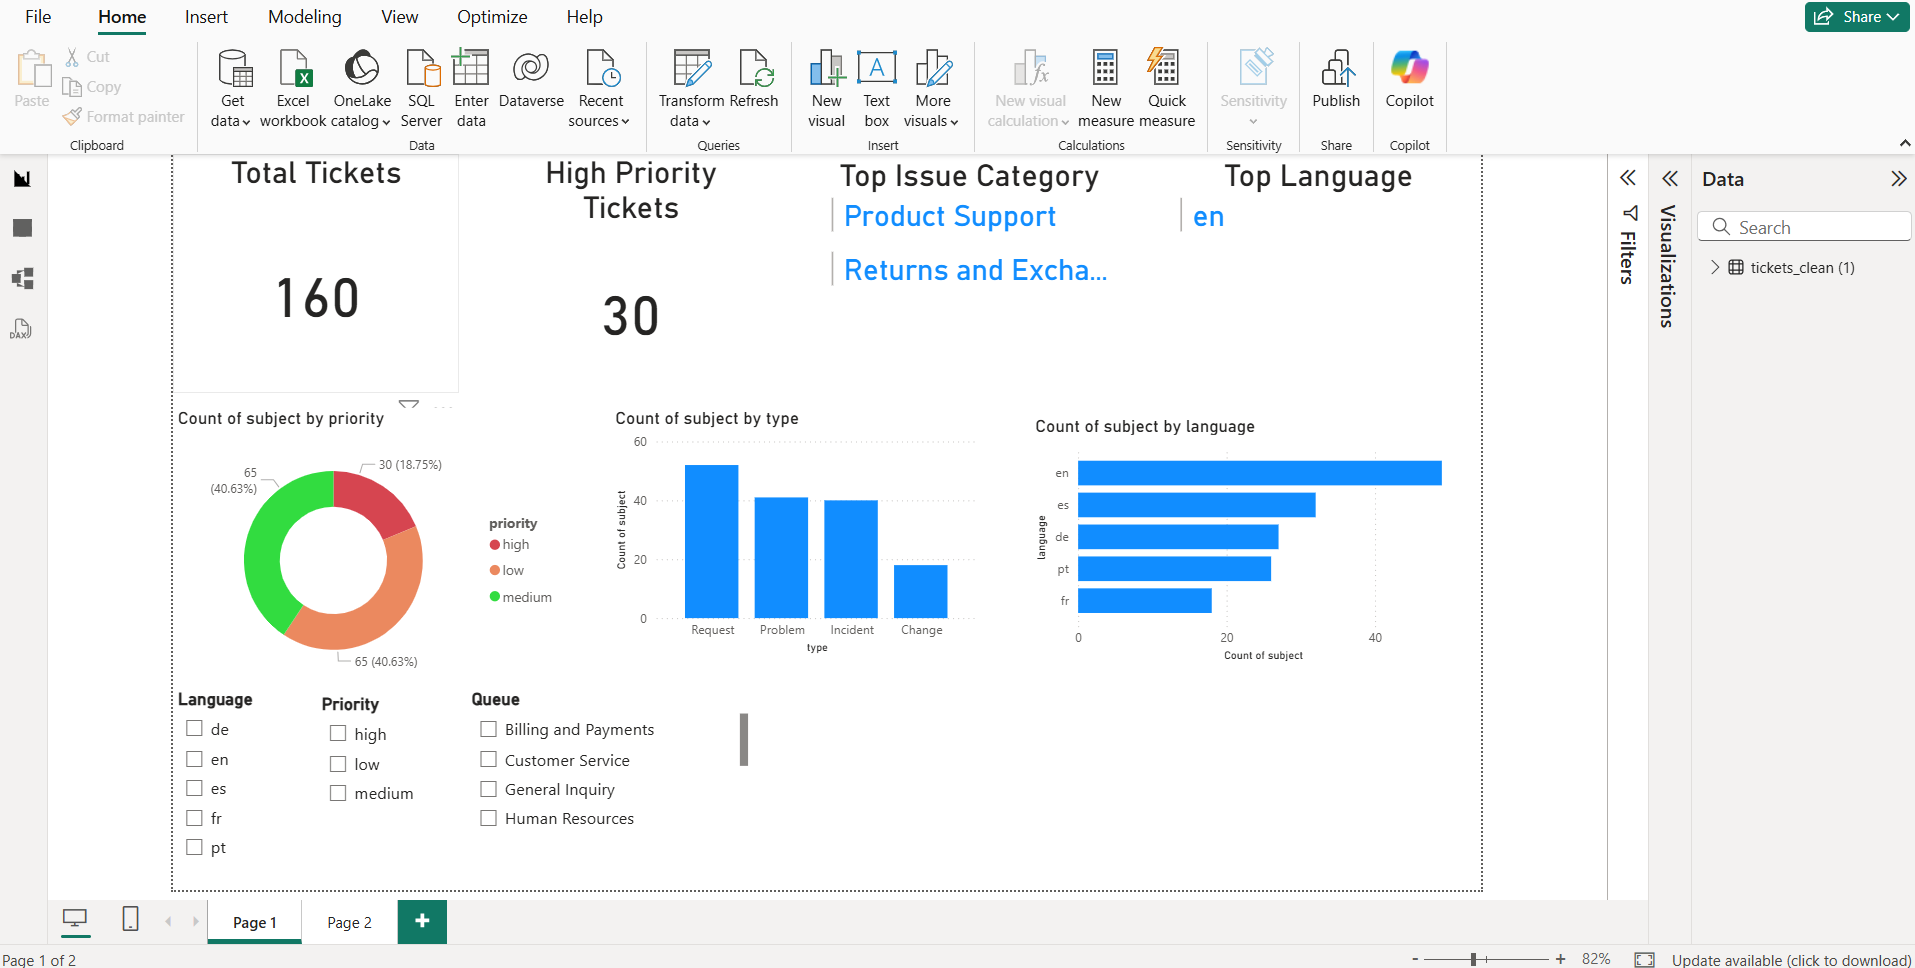

The dashboard page shown, as its layout file describes it:
{"tool":"powerbi","page":{"name":"Page 1","canvas":[1280,720],"ordinal":0},"visuals":[{"type":"card","title":"Total Tickets","fields":{"Values":["CountNonNull(tickets_clean (2).subject)"]},"box":[0,0,280,233.6],"z":0},{"type":"multiRowCard","title":"Top Issue Category","fields":{"Values":["select","tickets_clean (2).main_tag"]},"box":[640,4.3,279.4,233.8],"z":1000},{"type":"multiRowCard","title":"Top Language","fields":{"Values":["tickets_clean (2).language"]},"box":[980.7,3.7,280,229.9],"z":2000},{"type":"donutChart","fields":{"Category":["tickets_clean (2).priority"],"Y":["CountNonNull(tickets_clean (2).subject)"]},"box":[0,248.2,385.2,280],"z":3000},{"type":"clusteredBarChart","fields":{"Category":["tickets_clean (2).language"],"Y":["Count(tickets_clean (2).subject)"]},"box":[838.9,255.6,421.9,245.8],"z":4000},{"type":"clusteredColumnChart","fields":{"Category":["tickets_clean (2).type"],"Y":["Count(tickets_clean (2).subject)"]},"box":[428,248.2,364.4,245.8],"z":5000},{"type":"slicer","title":"Language","fields":{"Values":["tickets_clean (2).language"]},"box":[0,523.4,124.7,196.9],"z":6000},{"type":"slicer","title":"Priority","fields":{"Values":["tickets_clean (2).priority"]},"box":[140.6,528.3,124.7,150.4],"z":7000},{"type":"slicer","title":"Queue","fields":{"Values":["tickets_clean (2).queue"]},"box":[287.4,523.4,280,151.6],"z":8000},{"type":"card","title":"High Priority Tickets","fields":{"Values":["CountNonNull(tickets_clean (2).subject)"]},"box":[308.2,0,280,233.6],"z":9000}]}

Visuals, with their boxes on the page's 1280x720 design canvas (x1, y1, x2, y2). These are canvas units, not pixel positions in the 1915x968 screenshot, which may show the page scaled, cropped or inside an application window:
"Total Tickets" card: [0,0,280,234]
"Top Issue Category" multiRowCard: [640,4,919,238]
"Top Language" multiRowCard: [981,4,1261,234]
donutChart - tickets_clean (2).priority x CountNonNull(tickets_clean (2).subject): [0,248,385,528]
clusteredBarChart - tickets_clean (2).language x Count(tickets_clean (2).subject): [839,256,1261,501]
clusteredColumnChart - tickets_clean (2).type x Count(tickets_clean (2).subject): [428,248,792,494]
"Language" slicer: [0,523,125,720]
"Priority" slicer: [141,528,265,679]
"Queue" slicer: [287,523,567,675]
"High Priority Tickets" card: [308,0,588,234]
